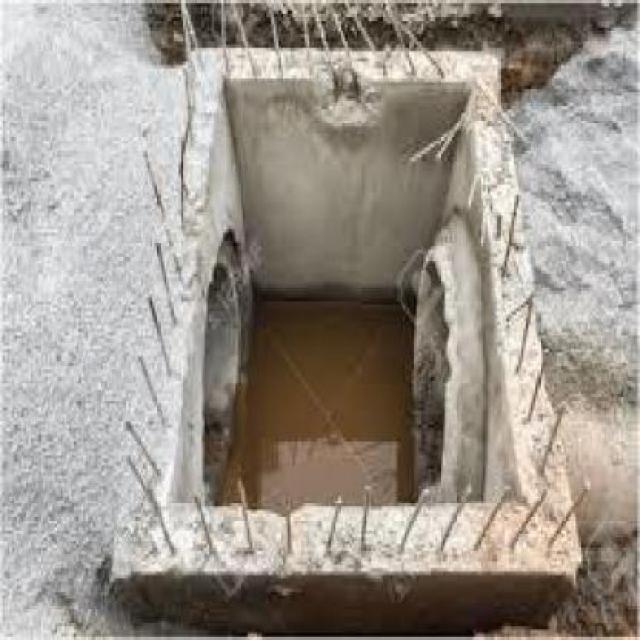Open Manhole: (165, 55, 532, 534)
